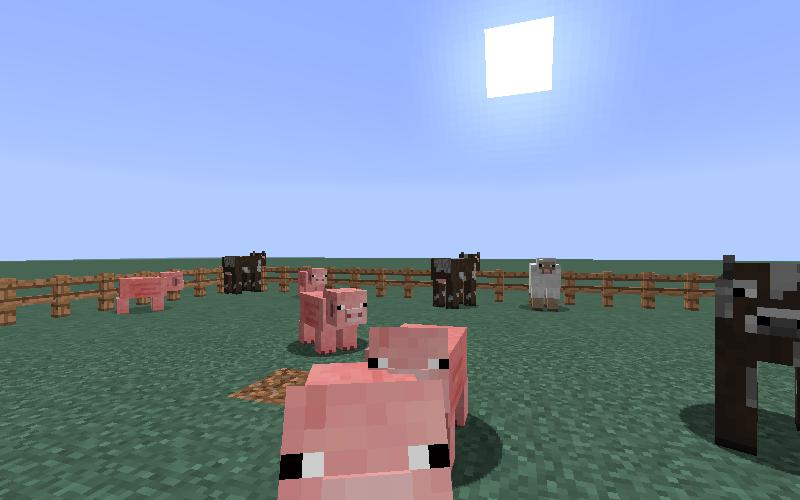cow: (714, 256, 800, 455), (427, 247, 484, 313), (217, 247, 280, 305)
pig: (281, 360, 454, 500), (297, 285, 368, 358), (368, 324, 469, 369), (111, 267, 187, 323), (298, 268, 327, 292)
sheep: (518, 257, 572, 312)
